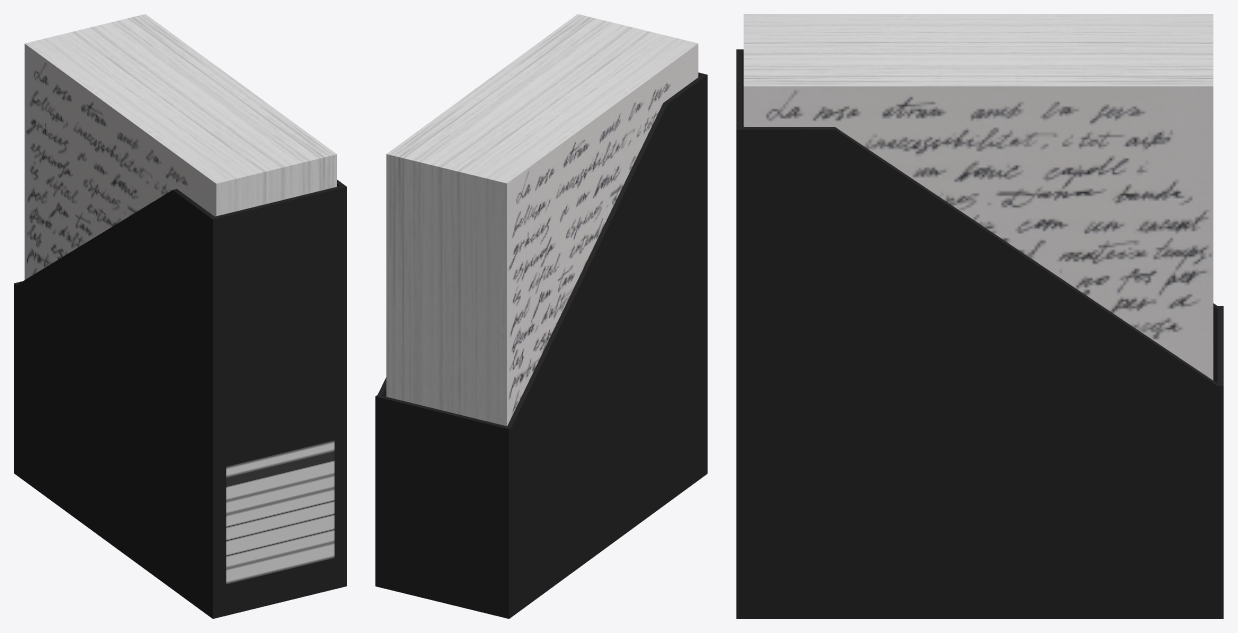
File: office folder10.FBX
The picture shows the model from 3 angles, left to right: view 1: azimuth 30°, elevation 25°; view 2: azimuth 150°, elevation 25°; view 3: azimuth 270°, elevation 25°; orthographic projection. The views are drawn at different scales.
Parts seen in each view (by area): view 1: office folder10; view 2: office folder10; view 3: office folder10.
Part boxes in pixels (box(x1,y1,x2,y2)): office folder10: box(14, 14, 346, 618); office folder10: box(375, 14, 707, 618); office folder10: box(736, 14, 1223, 618).
Size of the model in its own units: 3.92 by 10.07 by 12.06.
Materials: 1 (1 with a texture image).
